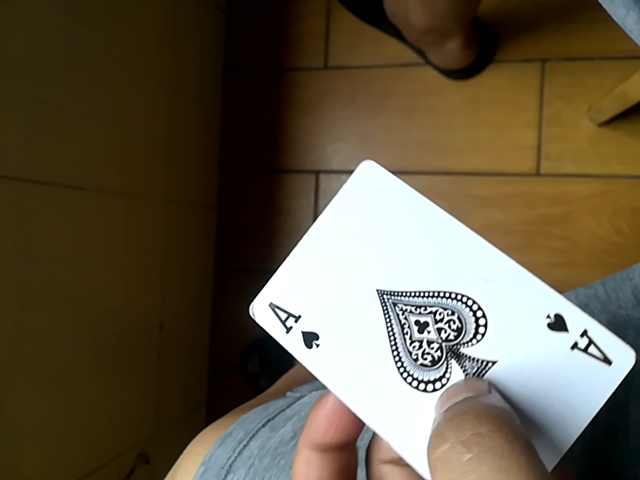ht a: (239, 161, 637, 477)
